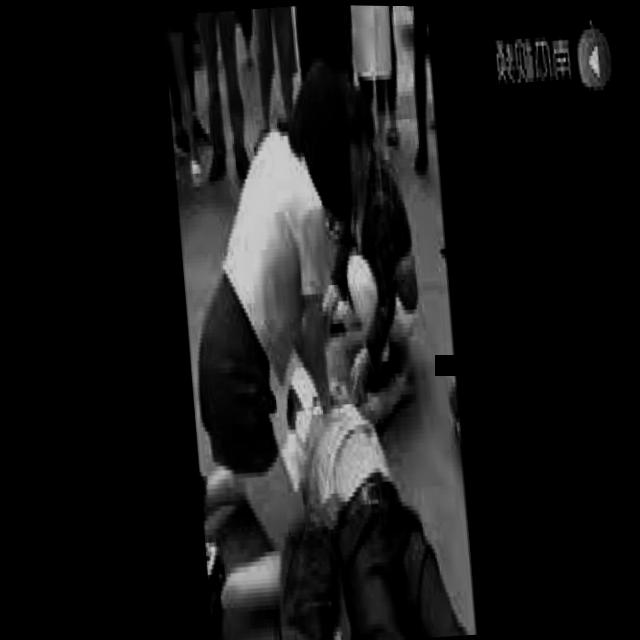Fall-Detected: (279, 322, 502, 639)
